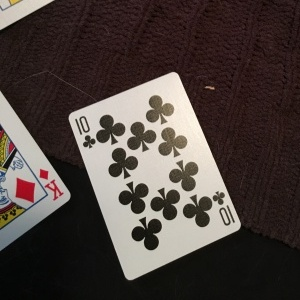card: (68, 72, 240, 282), (1, 85, 71, 252)
